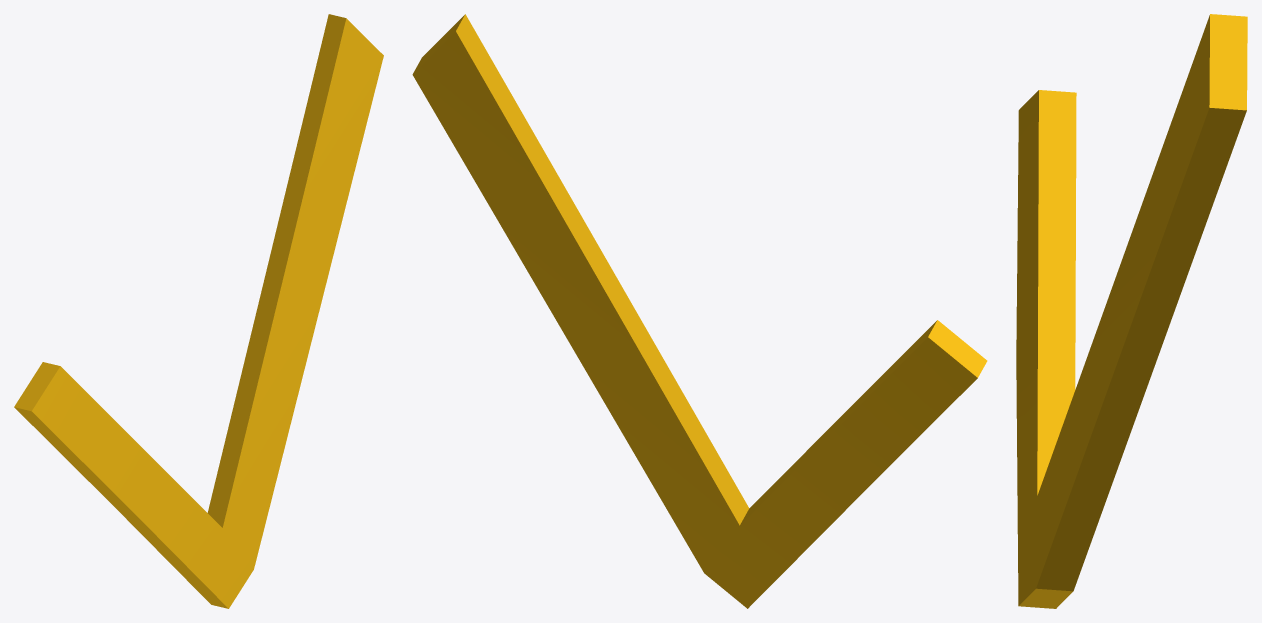
The model's file is Number_7.gltf.
3 renders of one model, left to right at view 1: azimuth 30°, elevation 25°; view 2: azimuth 150°, elevation 25°; view 3: azimuth 270°, elevation 25°, orthographic. The views are drawn at different scales.
Parts seen in each view (by area): view 1: Sub_4_Cell_3_1_Number_7; view 2: Sub_4_Cell_3_1_Number_7; view 3: Sub_4_Cell_3_1_Number_7.
Part boxes in pixels (box(x1,y1,x2,y2)): Sub_4_Cell_3_1_Number_7: box(14, 14, 383, 608); Sub_4_Cell_3_1_Number_7: box(412, 14, 987, 608); Sub_4_Cell_3_1_Number_7: box(1016, 14, 1247, 608).
Size of the model in its own units: 0.0231 by 0.0262 by 0.00755.
